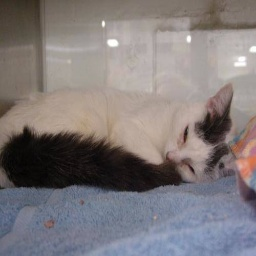cat: (4, 80, 236, 190)
